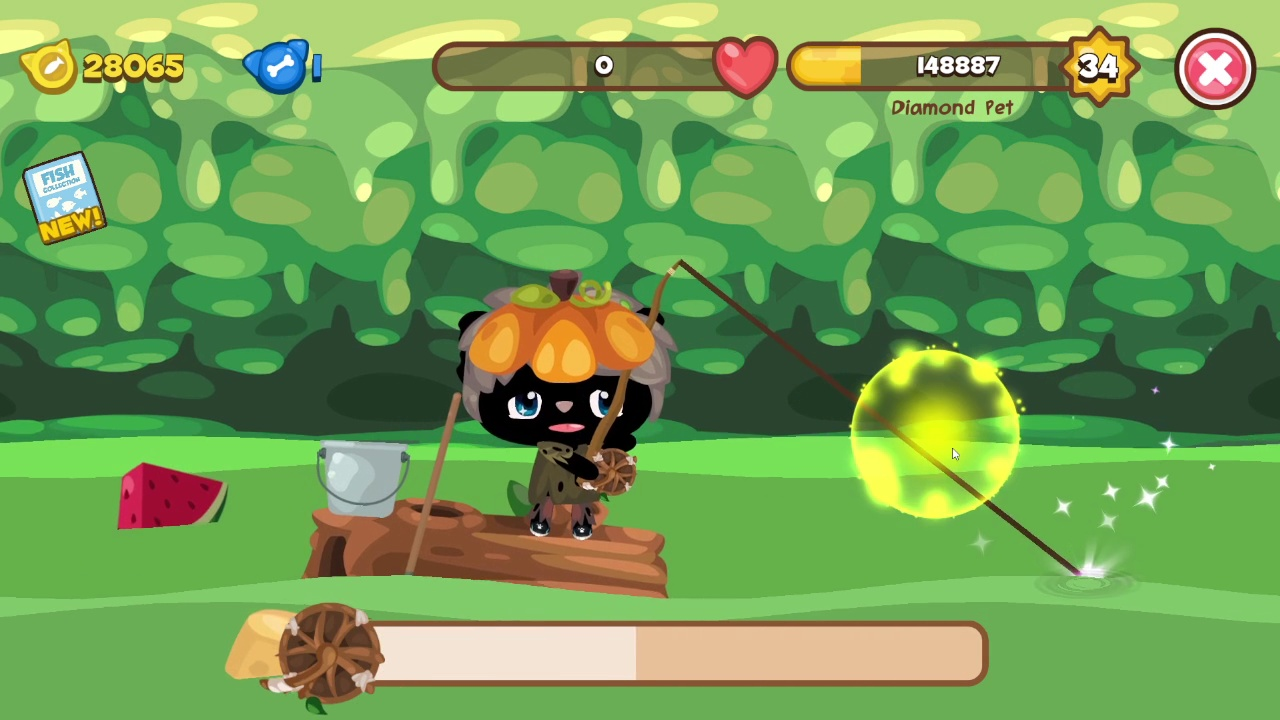point: (851, 347, 1021, 517)
